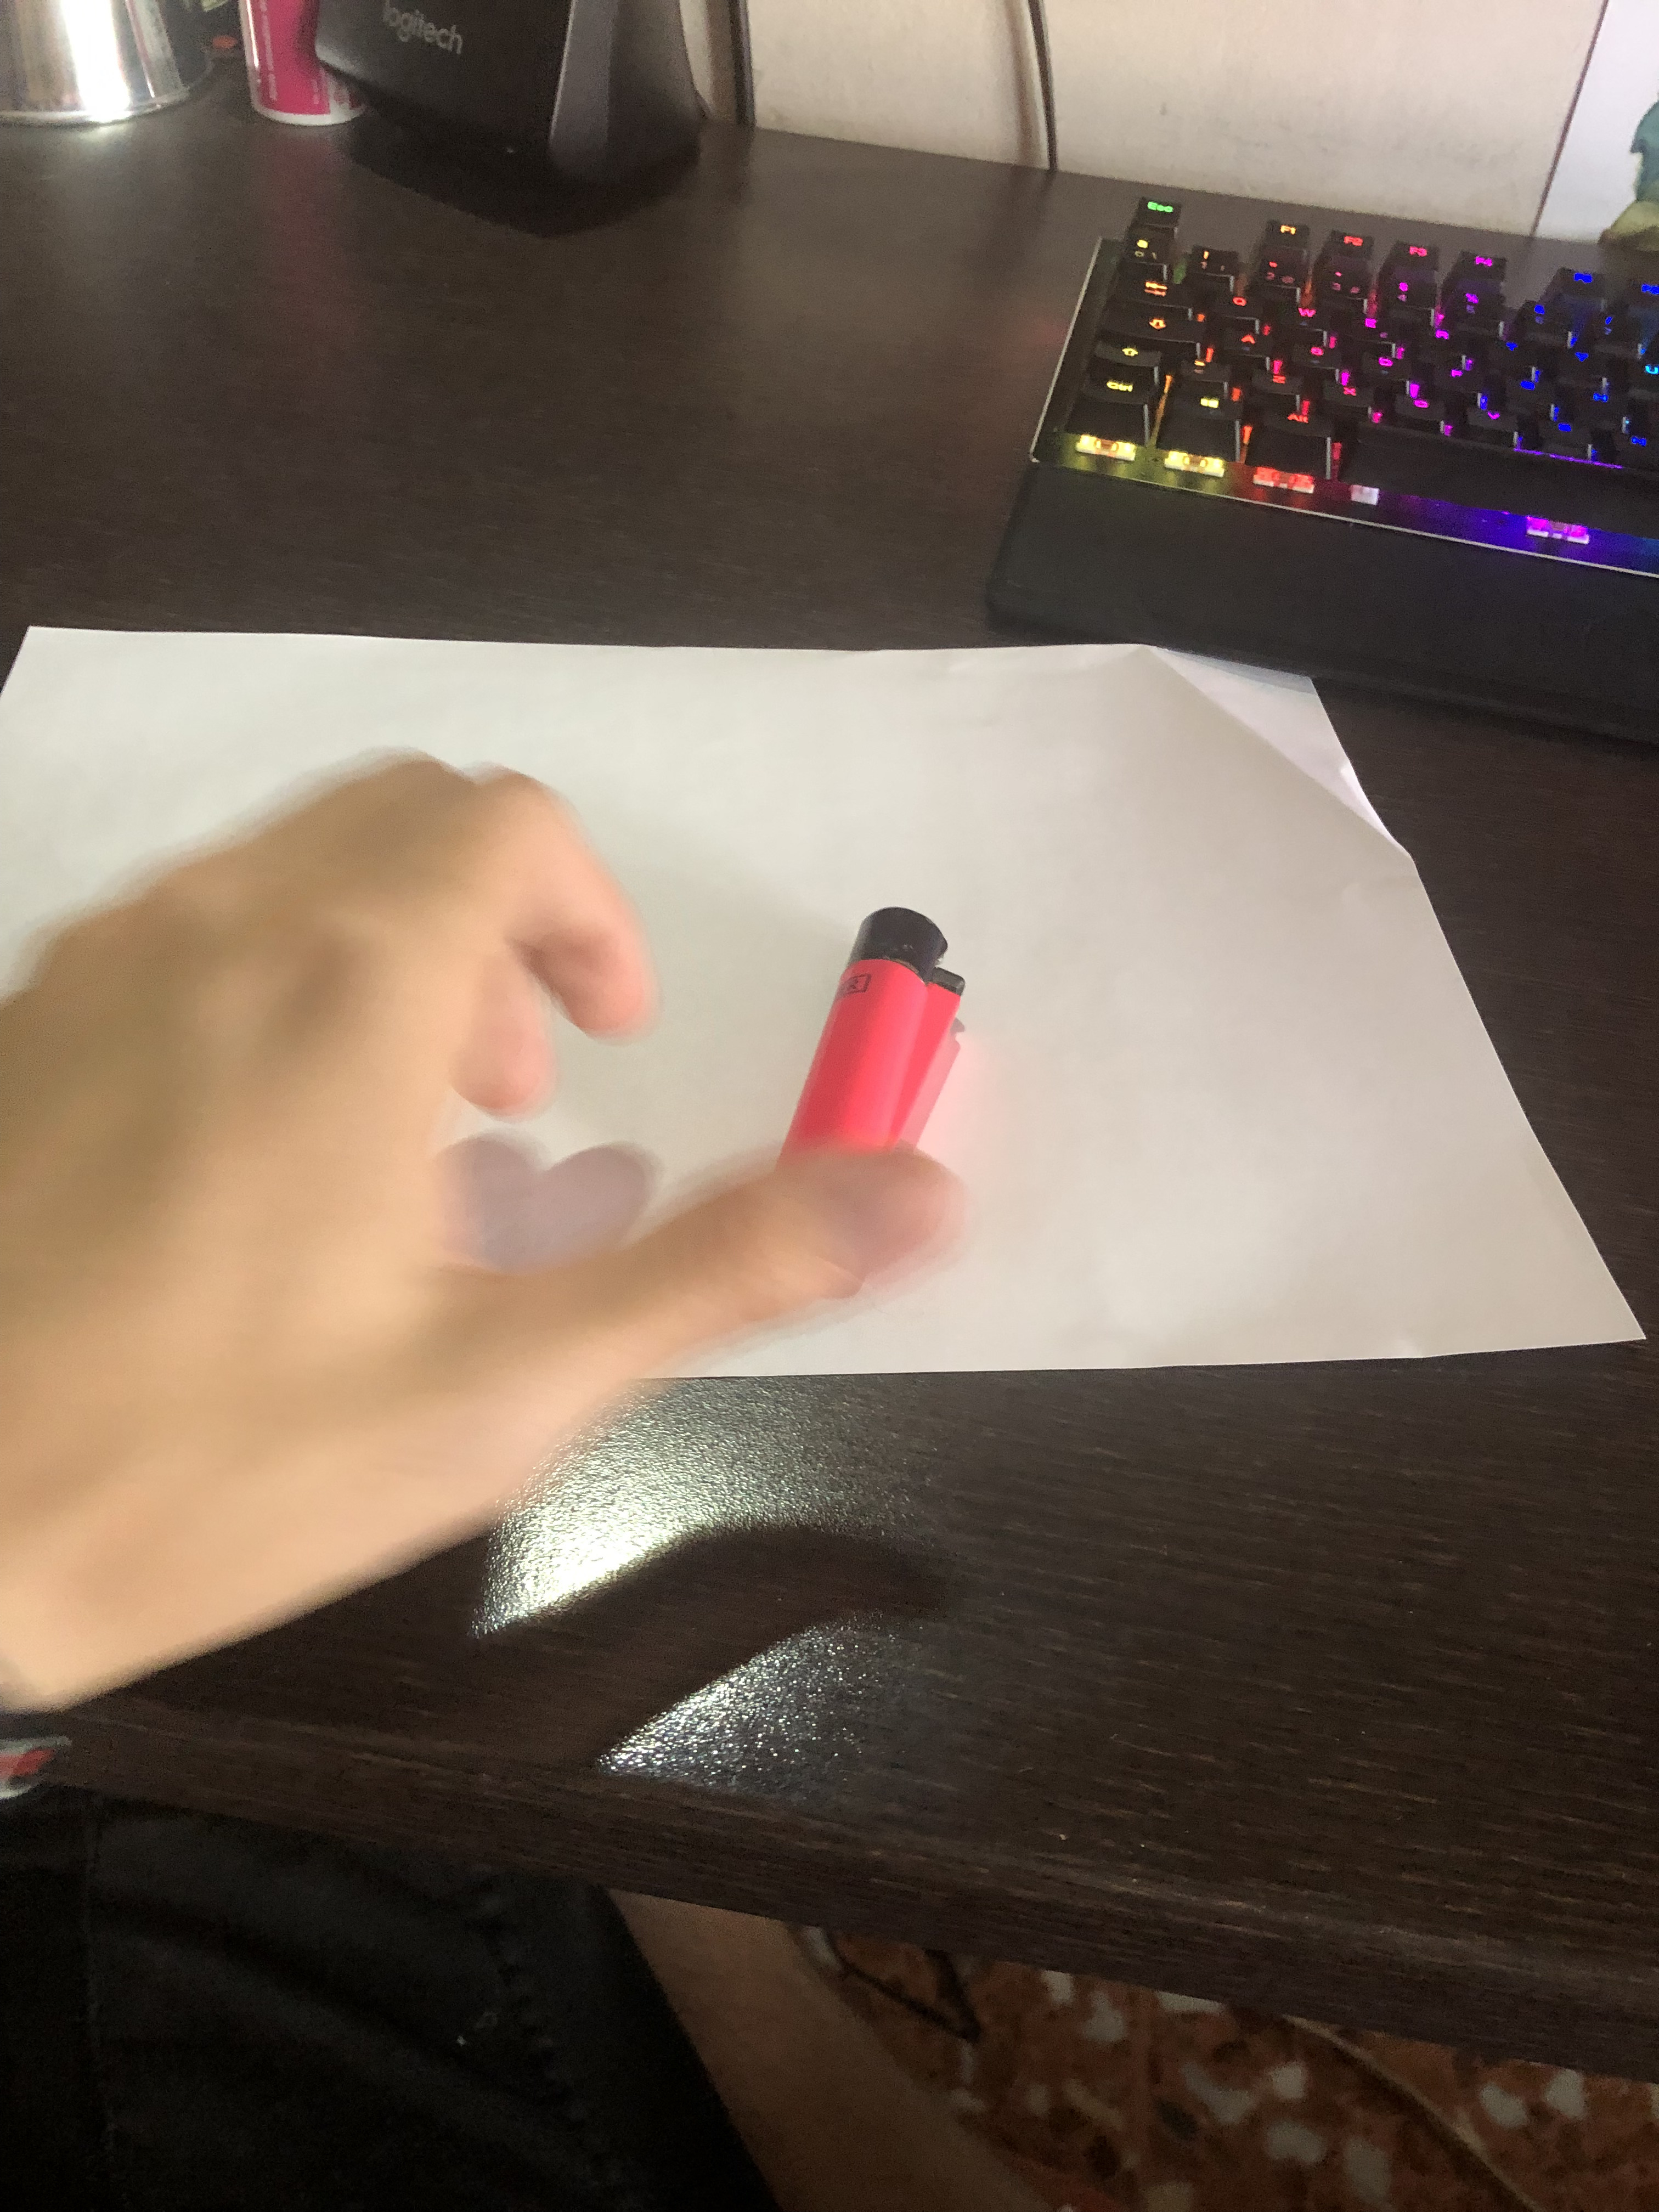Mechero: (758, 860, 988, 1209)
